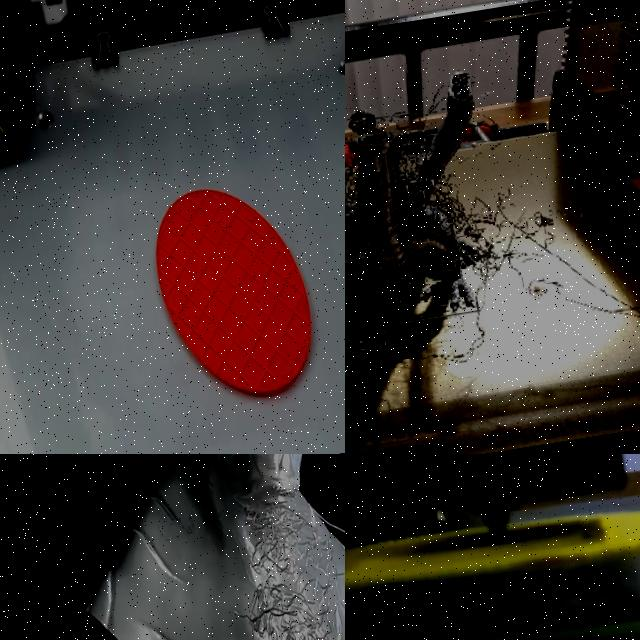spaghetti: (345, 54, 640, 367), (191, 471, 345, 640)
